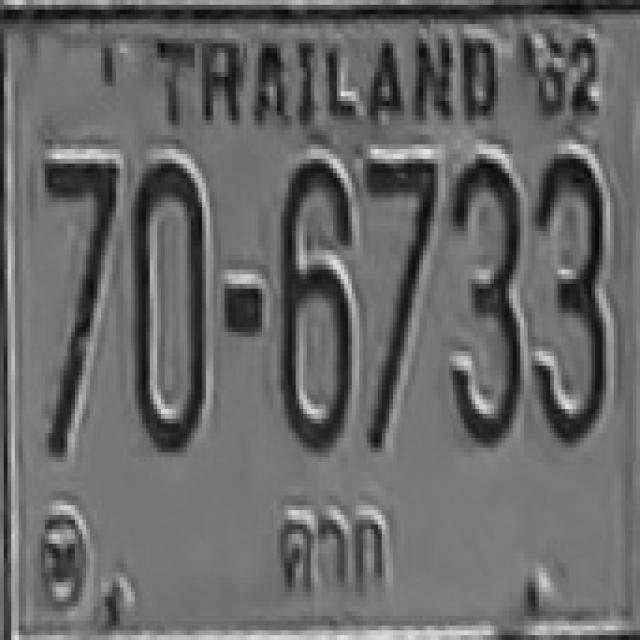0: (129, 159, 204, 452)
3: (446, 154, 520, 443), (530, 152, 604, 440)
6: (277, 156, 348, 450)
7: (363, 154, 438, 399), (363, 154, 438, 346), (41, 156, 116, 325), (365, 154, 436, 322)
Tak: (262, 496, 398, 594)
